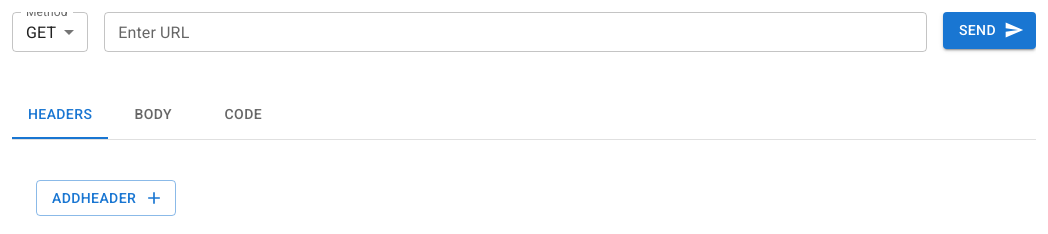
Scenario: RequestForm › shows validation error for invalid url
Type "not-a-url" into the field labelled "Enter URL". click: point(516, 32)
box: [104,12,927,52]
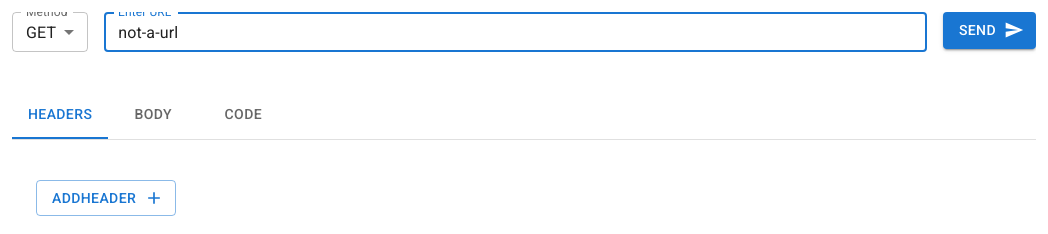
Click the button "Send". click: point(989, 30)
box: [943,12,1036,48]
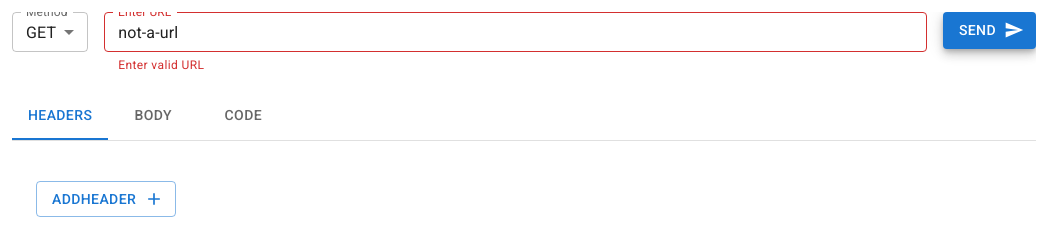
Check: the text "Enter valid URL" is shown, box [118,58,204,72]
